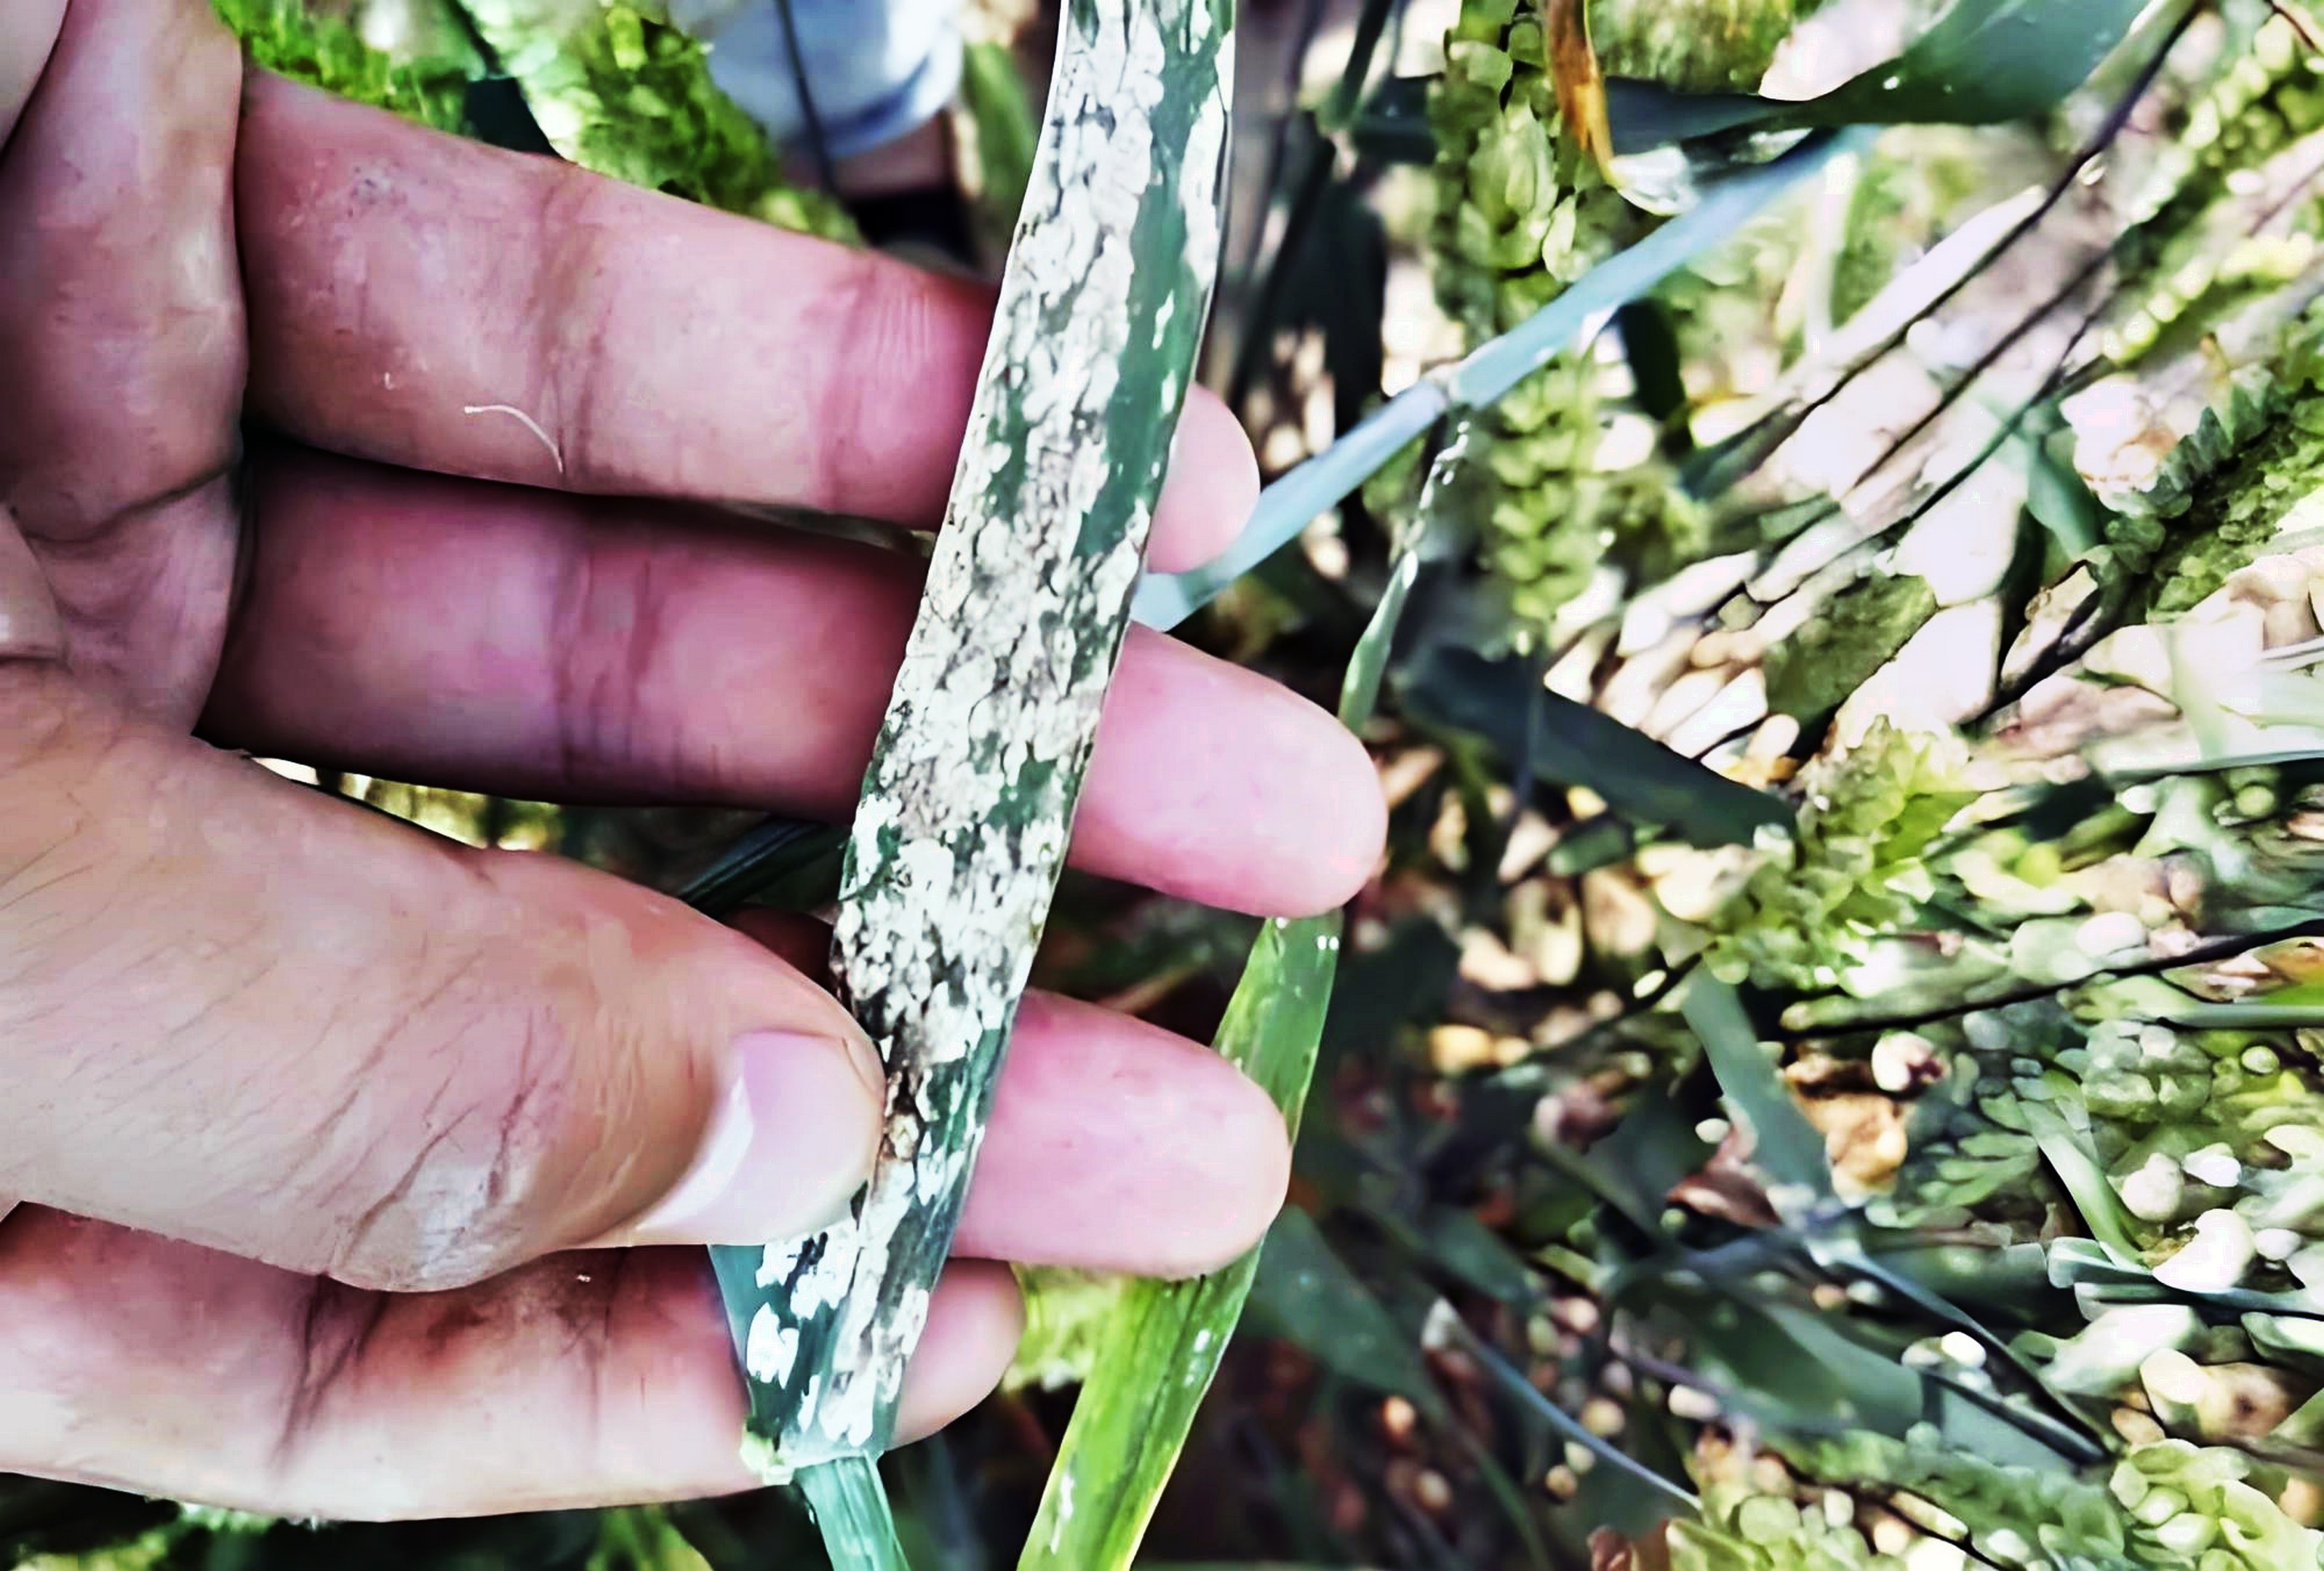Powdery Mildew: (780, 26, 1262, 1359)
